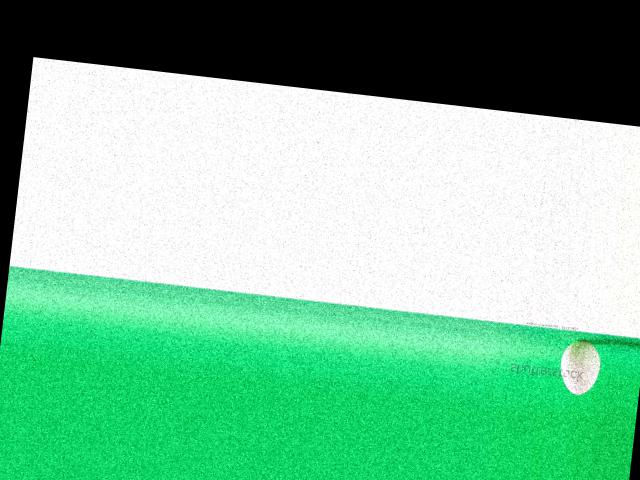egg: (558, 337, 603, 396)
